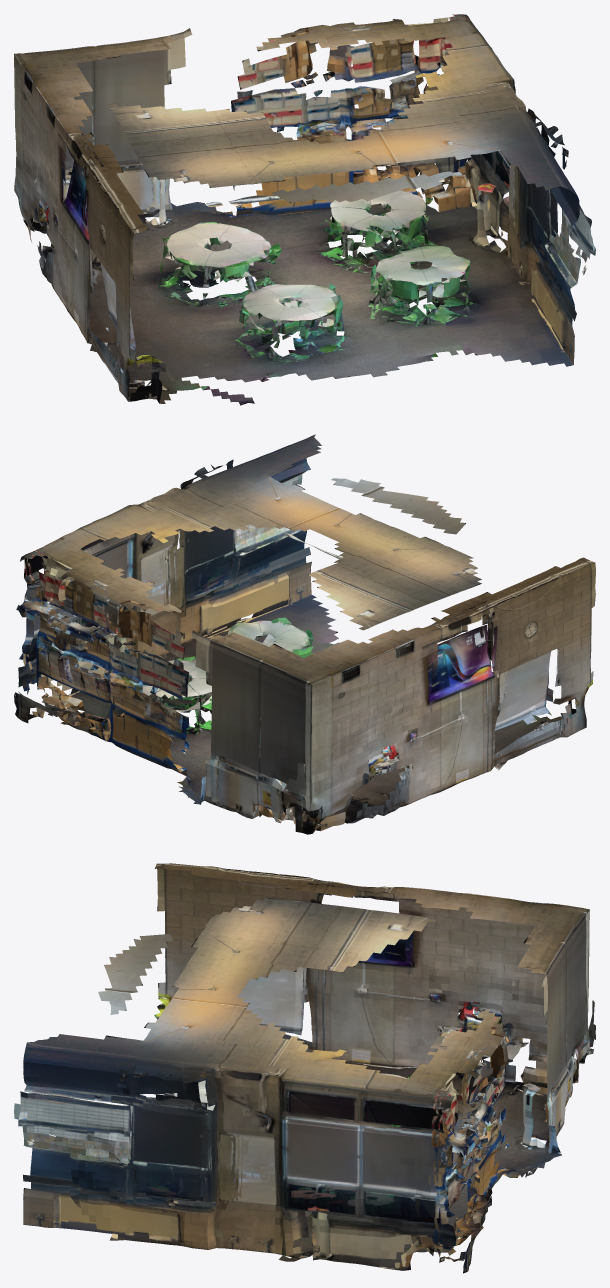
3 renders of one model, top to bottom at view 1: azimuth 30°, elevation 25°; view 2: azimuth 150°, elevation 25°; view 3: azimuth 270°, elevation 25°, orthographic. The views are drawn at different scales.
Visible parts, largest first — view 1: 2_m203_2-IM; view 2: 2_m203_2-IM; view 3: 2_m203_2-IM.
Boxes of the visible parts, <box> form: 2_m203_2-IM: <box>14,14,595,405</box>; 2_m203_2-IM: <box>14,434,595,834</box>; 2_m203_2-IM: <box>14,863,595,1273</box>.
Size of the model in its own units: 905 by 338 by 932.
1 material, 1 textured.
